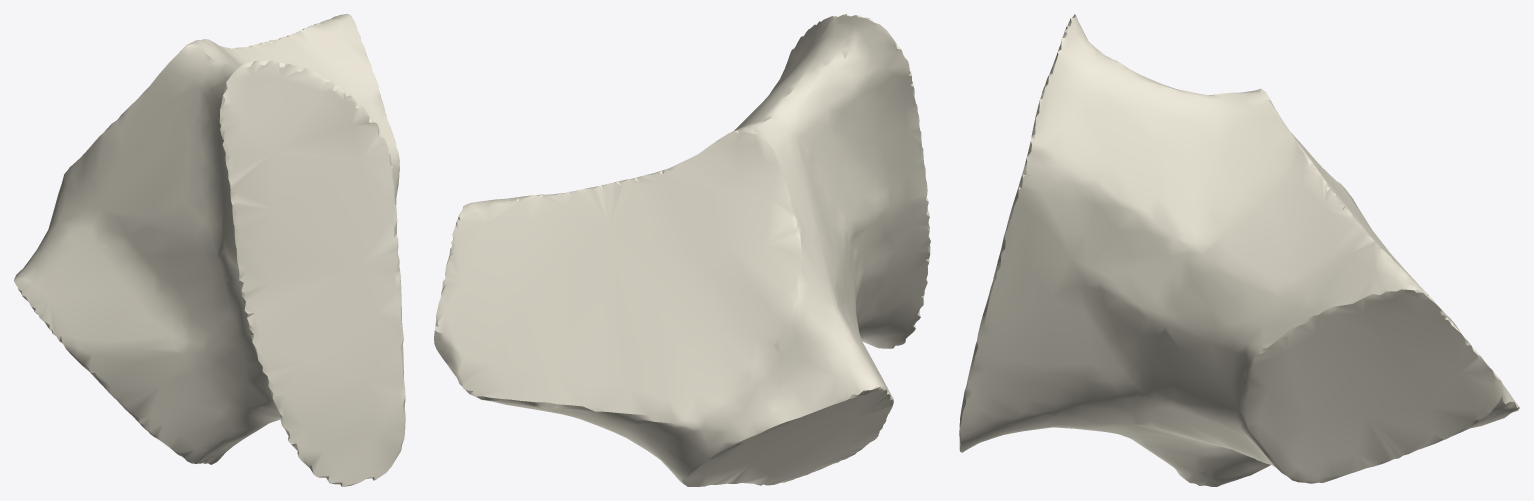
File: fma16100_mm2373.glb
3 views of the same model, side by side, from view 1: azimuth 30°, elevation 25°; view 2: azimuth 150°, elevation 25°; view 3: azimuth 270°, elevation 25° (orthographic). The views are drawn at different scales.
Parts seen in each view (by area): view 1: FMA16100_MM2373; view 2: FMA16100_MM2373; view 3: FMA16100_MM2373.
Part boxes in pixels (box(x1,y1,x2,y2)): FMA16100_MM2373: box(14, 14, 405, 486); FMA16100_MM2373: box(434, 14, 930, 486); FMA16100_MM2373: box(959, 14, 1519, 486).
Size of the model in its own units: 0.017 by 0.0189 by 0.021.
